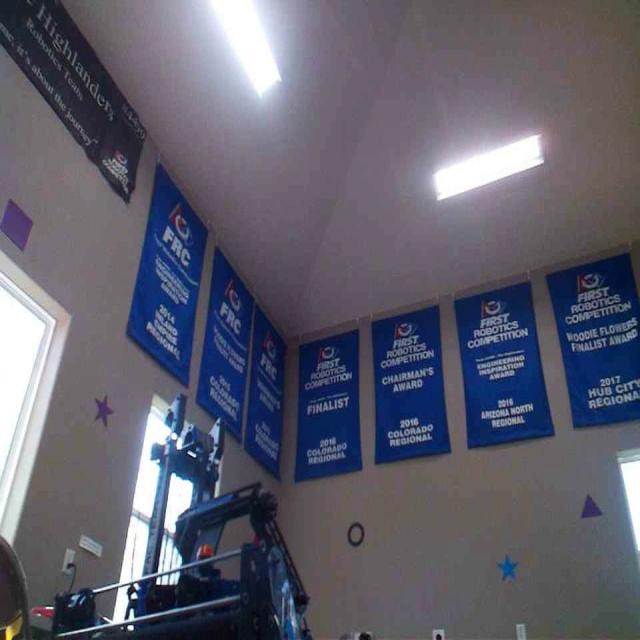ring_black: (346, 521, 364, 546)
star_blue: (496, 553, 518, 581)
star_purple: (0, 197, 34, 251), (93, 390, 113, 425)
triangle_purple: (580, 492, 603, 519)
